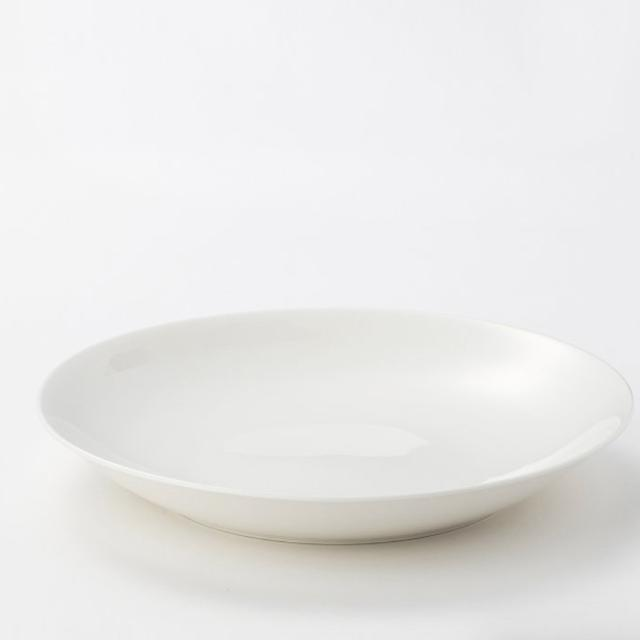recyclable: (32, 288, 638, 558)
